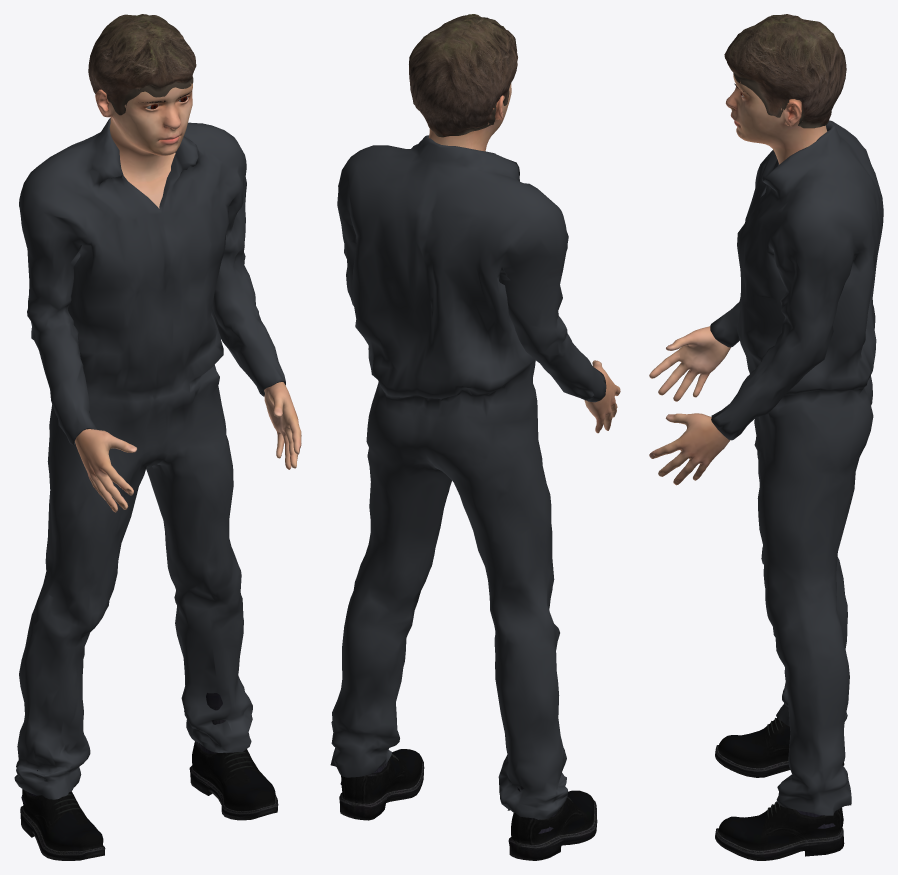
File: cussac-francois-13.glb
3 renders of one model, left to right at view 1: azimuth 30°, elevation 25°; view 2: azimuth 150°, elevation 25°; view 3: azimuth 270°, elevation 25°, orthographic.
Visible parts, largest first — view 1: Human.male_kidsuit01.001, Human.001, Human.shoes03.001, Human.short02.001; view 2: Human.male_kidsuit01.001, Human.short02.001, Human.shoes03.001, Human.001; view 3: Human.male_kidsuit01.001, Human.001, Human.short02.001, Human.shoes03.001.
Boxes of the visible parts, bbox=[...] form: Human.male_kidsuit01.001: bbox=[14, 118, 285, 799]; Human.001: bbox=[75, 83, 301, 512]; Human.shoes03.001: bbox=[20, 693, 278, 860]; Human.short02.001: bbox=[88, 14, 196, 117]; Human.male_kidsuit01.001: bbox=[330, 135, 606, 819]; Human.short02.001: bbox=[409, 14, 517, 137]; Human.shoes03.001: bbox=[339, 749, 597, 860]; Human.001: bbox=[429, 83, 620, 433]; Human.male_kidsuit01.001: bbox=[710, 120, 883, 815]; Human.001: bbox=[649, 73, 827, 485]; Human.short02.001: bbox=[724, 14, 846, 128]; Human.shoes03.001: bbox=[715, 718, 844, 860].
Bounding box in the file's own units: 0.4758 × 1.55 × 0.4184.
Materials: 6 (6 with a texture image).
